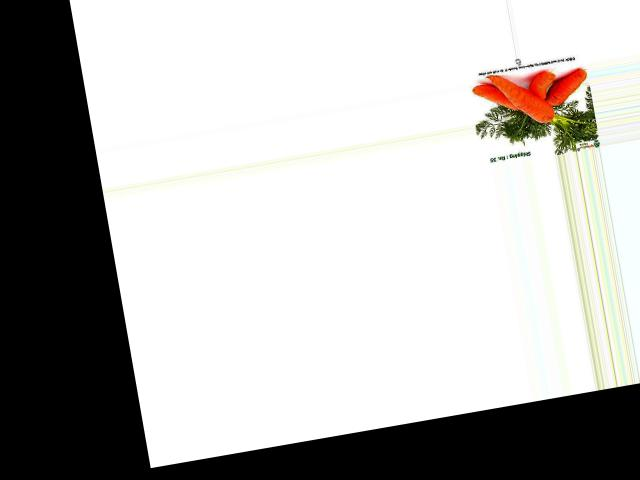carrot: (540, 67, 591, 111)
